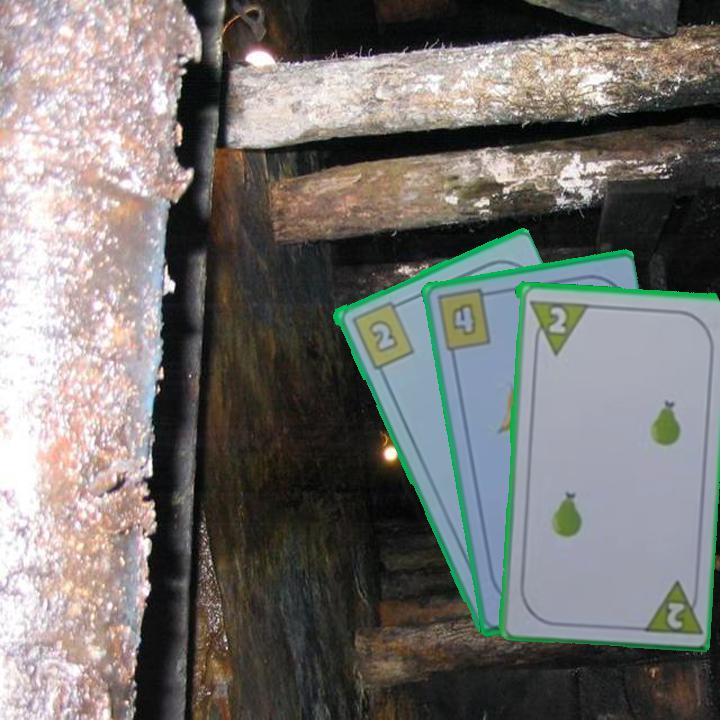2b: (347, 296, 417, 372)
2p: (543, 302, 570, 336), (662, 598, 687, 631)
4b: (432, 286, 496, 354)
